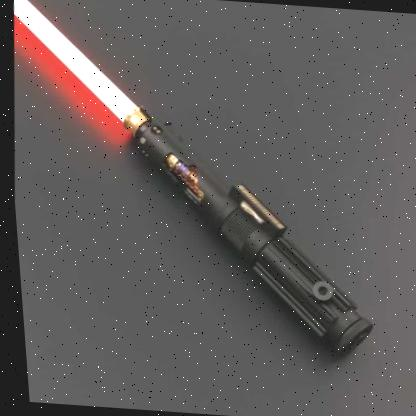sith_lightsaber: (0, 0, 400, 373)
